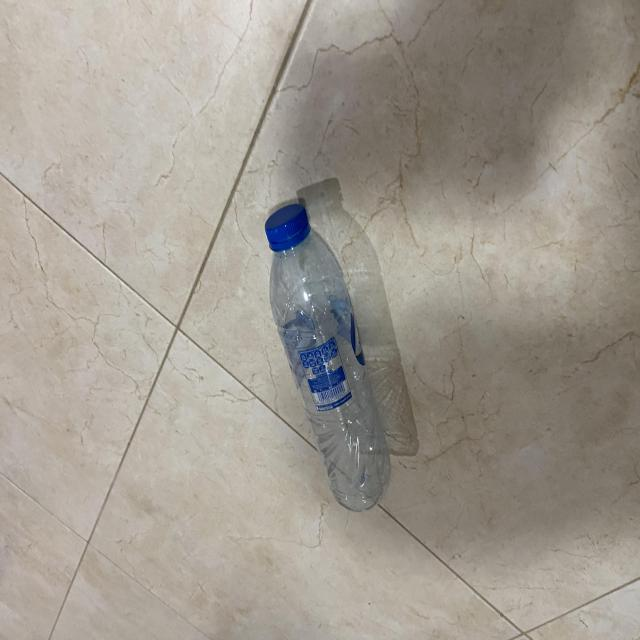plastic: (261, 198, 393, 513)
